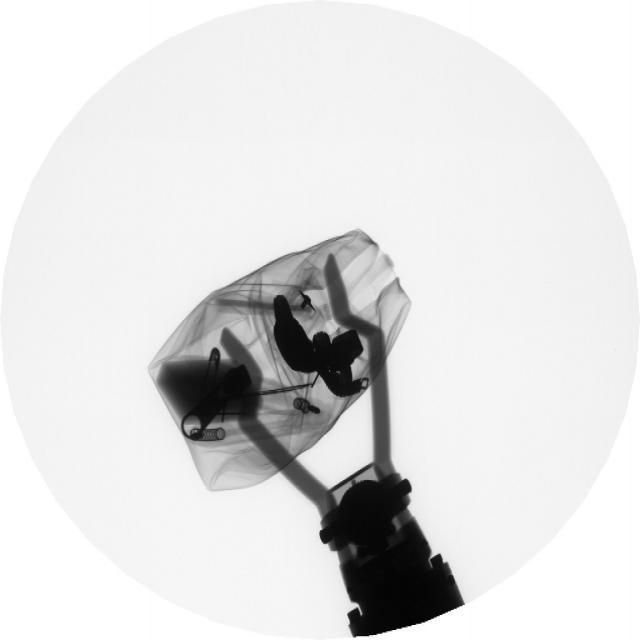BLADE: (211, 334, 258, 388)
